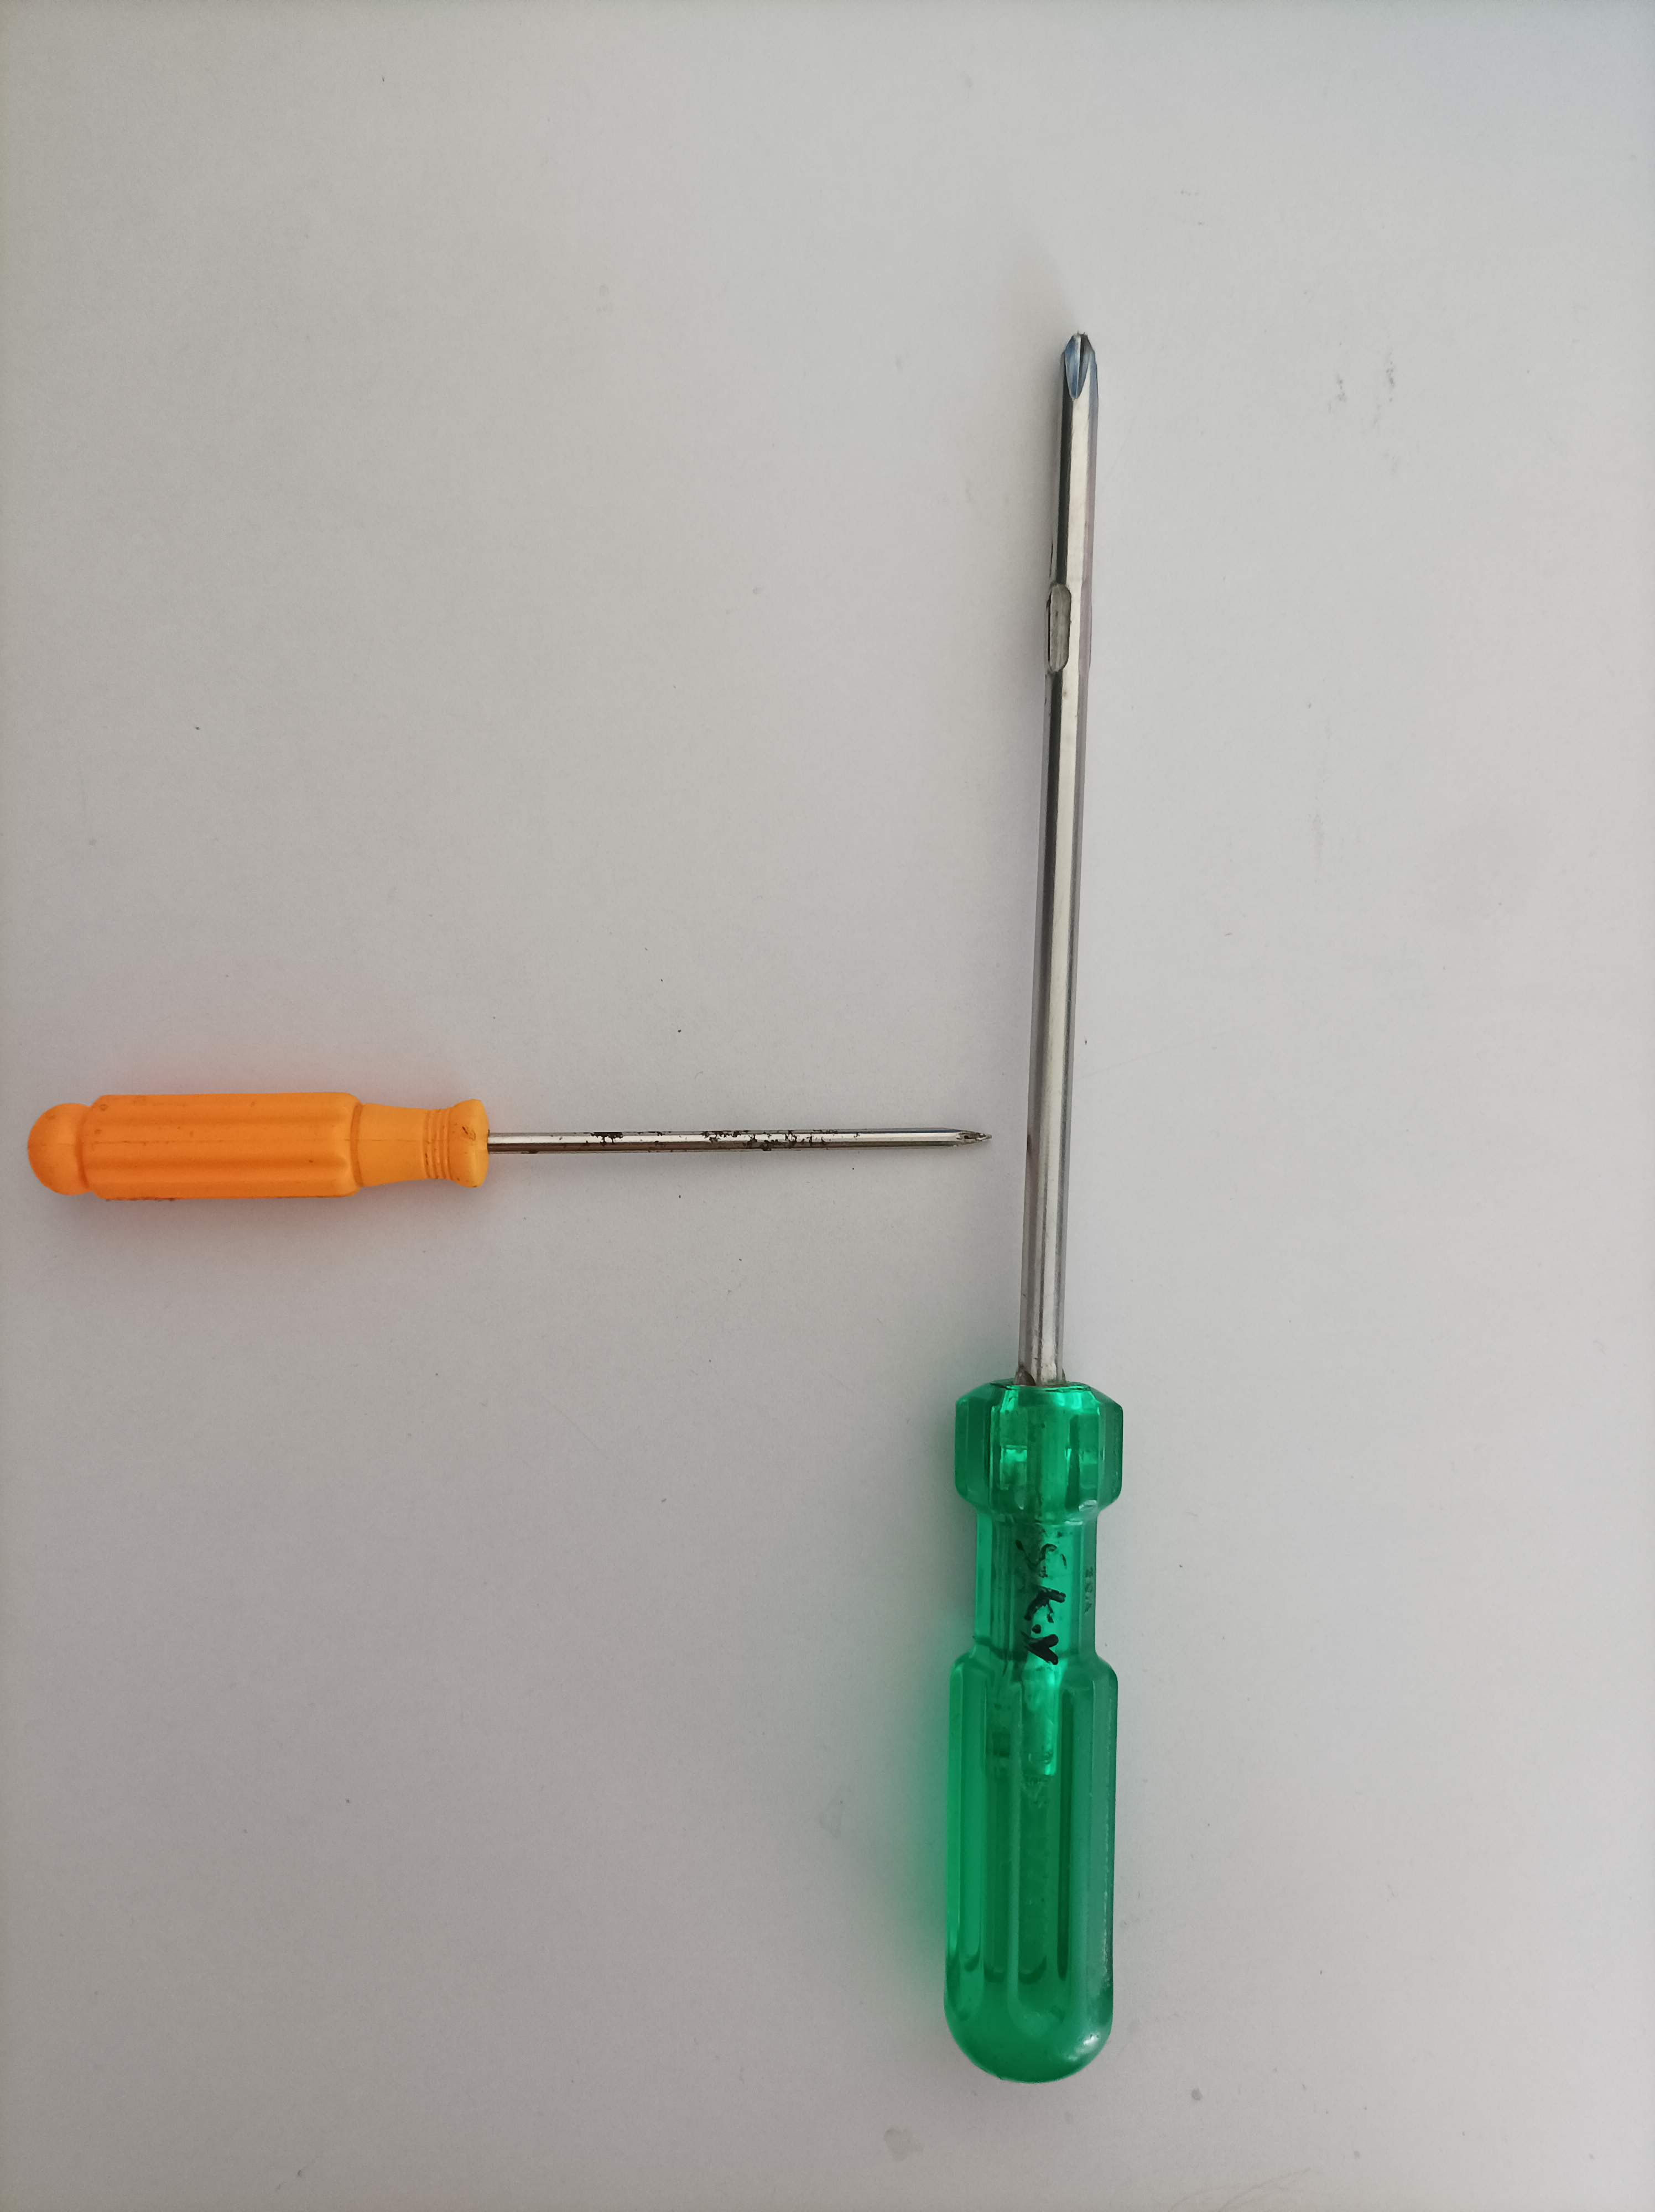screwdriver: (921, 315, 1158, 2094), (12, 1084, 1003, 1216)
